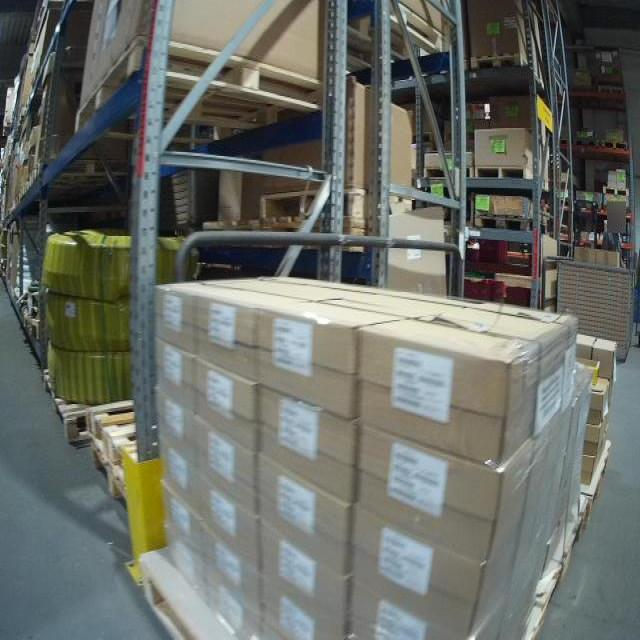pallet: (69, 34, 333, 148), (343, 0, 451, 69), (139, 561, 232, 640), (41, 369, 144, 439), (84, 410, 159, 464), (258, 185, 362, 223), (87, 453, 132, 505), (563, 500, 596, 561), (474, 162, 551, 188), (581, 441, 611, 502), (474, 213, 547, 236), (468, 49, 531, 71), (602, 185, 631, 196), (598, 84, 626, 95), (601, 140, 628, 151), (603, 203, 632, 213), (573, 138, 601, 148)
pallet_truck: (569, 192, 603, 264)
stillage: (548, 252, 636, 361)
